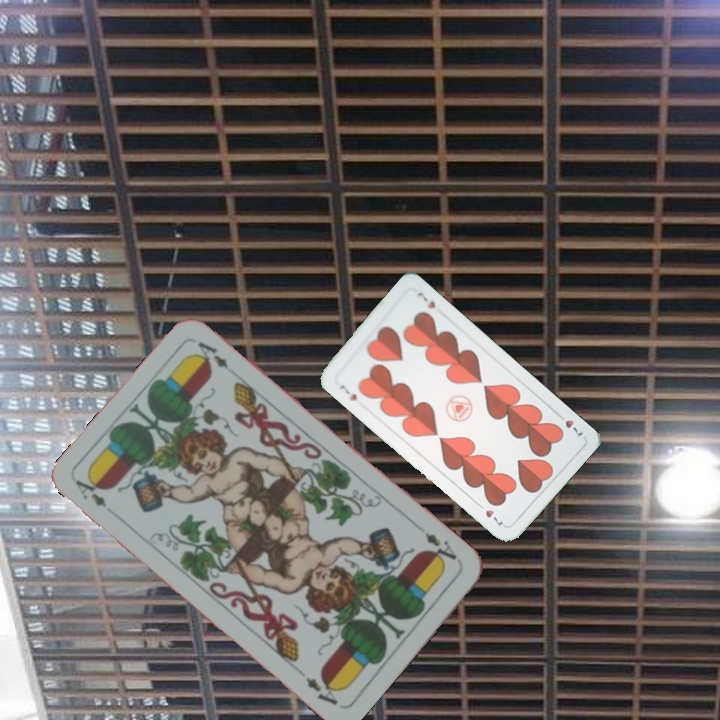EA: (420, 528, 460, 569), (71, 471, 109, 510)
H7: (553, 409, 586, 439), (336, 380, 359, 404)
